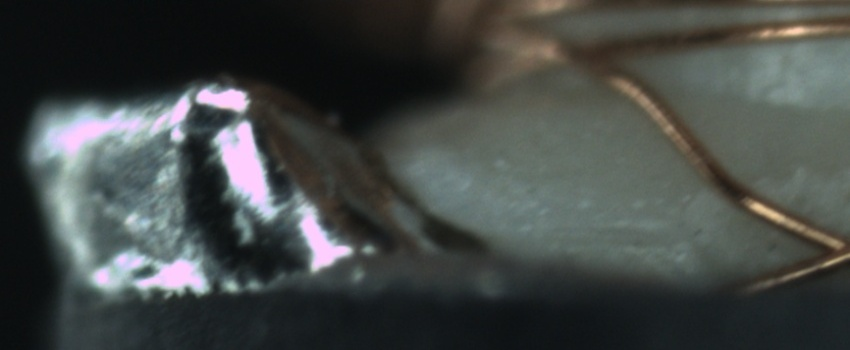DL: (511, 200, 690, 257)
